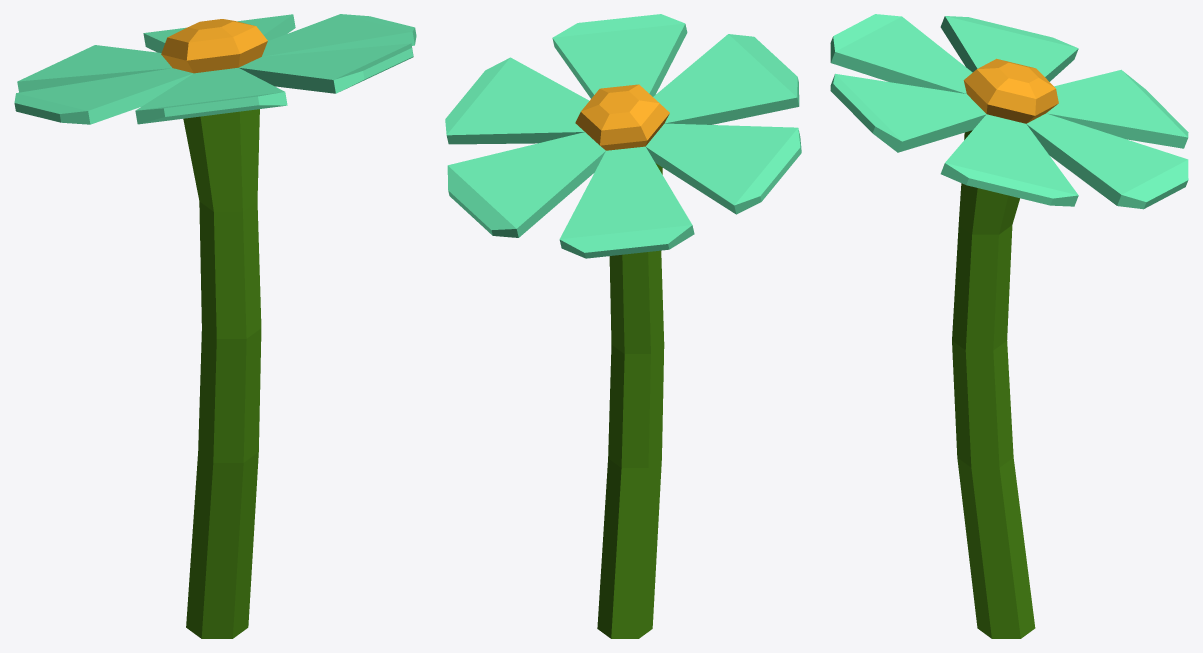
The model's file is SM_Flower3.fbx.
3 renders of one model, left to right at view 1: azimuth 30°, elevation 25°; view 2: azimuth 150°, elevation 25°; view 3: azimuth 270°, elevation 25°, orthographic. The views are drawn at different scales.
Parts seen in each view (by area): view 1: SM_Flower3; view 2: SM_Flower3; view 3: SM_Flower3.
Boxes of the visible parts, box(x1,y1,x2,y2) form: SM_Flower3: box(14, 14, 416, 638); SM_Flower3: box(445, 14, 801, 638); SM_Flower3: box(830, 14, 1188, 638).
Bounding box in the file's own units: 41.25 × 67.91 × 38.76.
